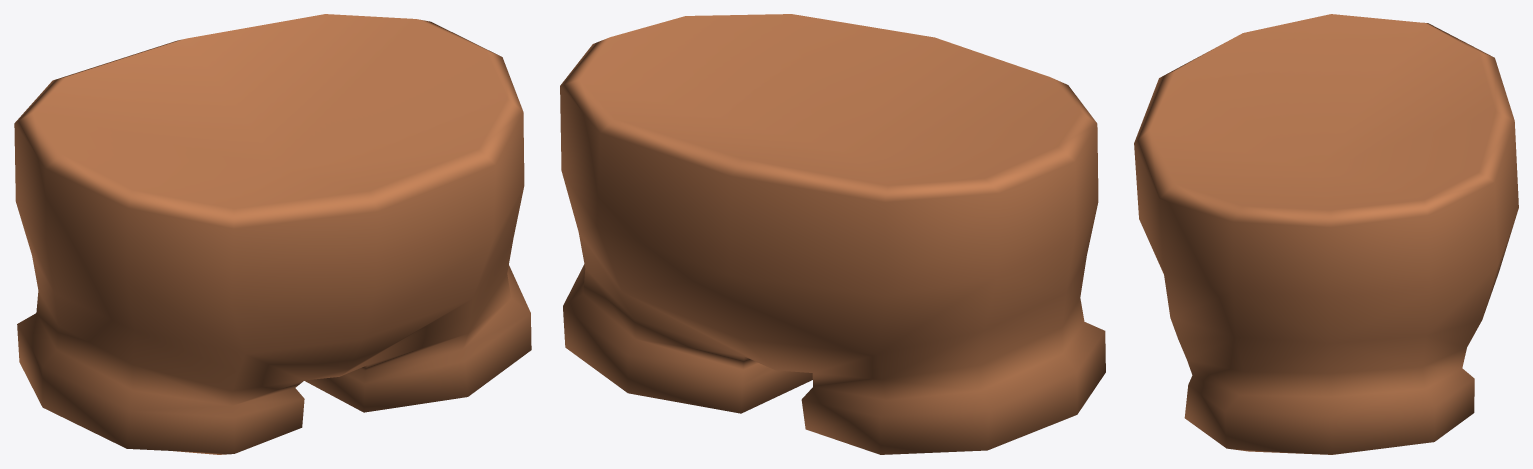
File: Bottom_42.fbx
3 renders of one model, left to right at view 1: azimuth 30°, elevation 25°; view 2: azimuth 150°, elevation 25°; view 3: azimuth 270°, elevation 25°, orthographic. The views are drawn at different scales.
Visible parts, largest first — view 1: Bottom_42; view 2: Bottom_42; view 3: Bottom_42.
Boxes of the visible parts, bbox=[...] form: Bottom_42: bbox=[14, 14, 531, 454]; Bottom_42: bbox=[560, 14, 1105, 454]; Bottom_42: bbox=[1134, 14, 1518, 454].
Size of the model in its own units: 38.94 by 22.89 by 29.68.
